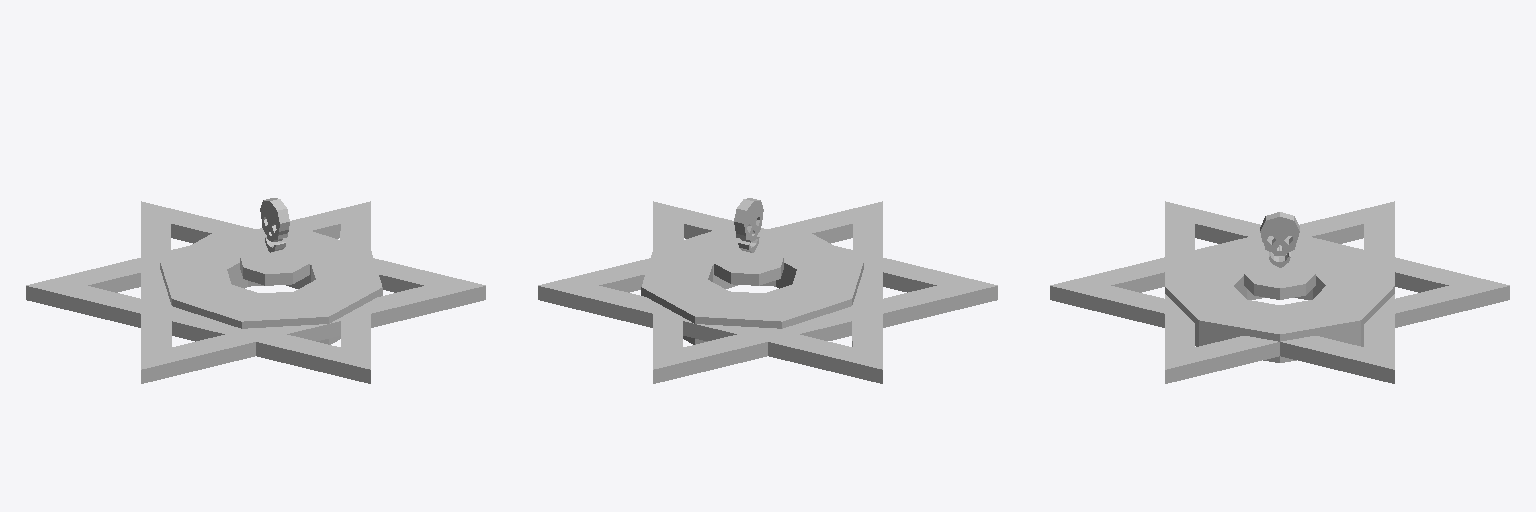
The model's file is HeadStoneOfHell.obj.
3 views of the same model, side by side, from view 1: azimuth 30°, elevation 25°; view 2: azimuth 150°, elevation 25°; view 3: azimuth 270°, elevation 25° (orthographic).
Parts seen in each view (by area): view 1: text2; view 2: text2; view 3: text2.
Part boxes in pixels (left/top/right/bottom): text2: left=26, top=198, right=485, bottom=383; text2: left=538, top=198, right=997, bottom=383; text2: left=1050, top=201, right=1509, bottom=383.
Bounding box in the file's own units: 15.4 × 4.36 × 17.78.